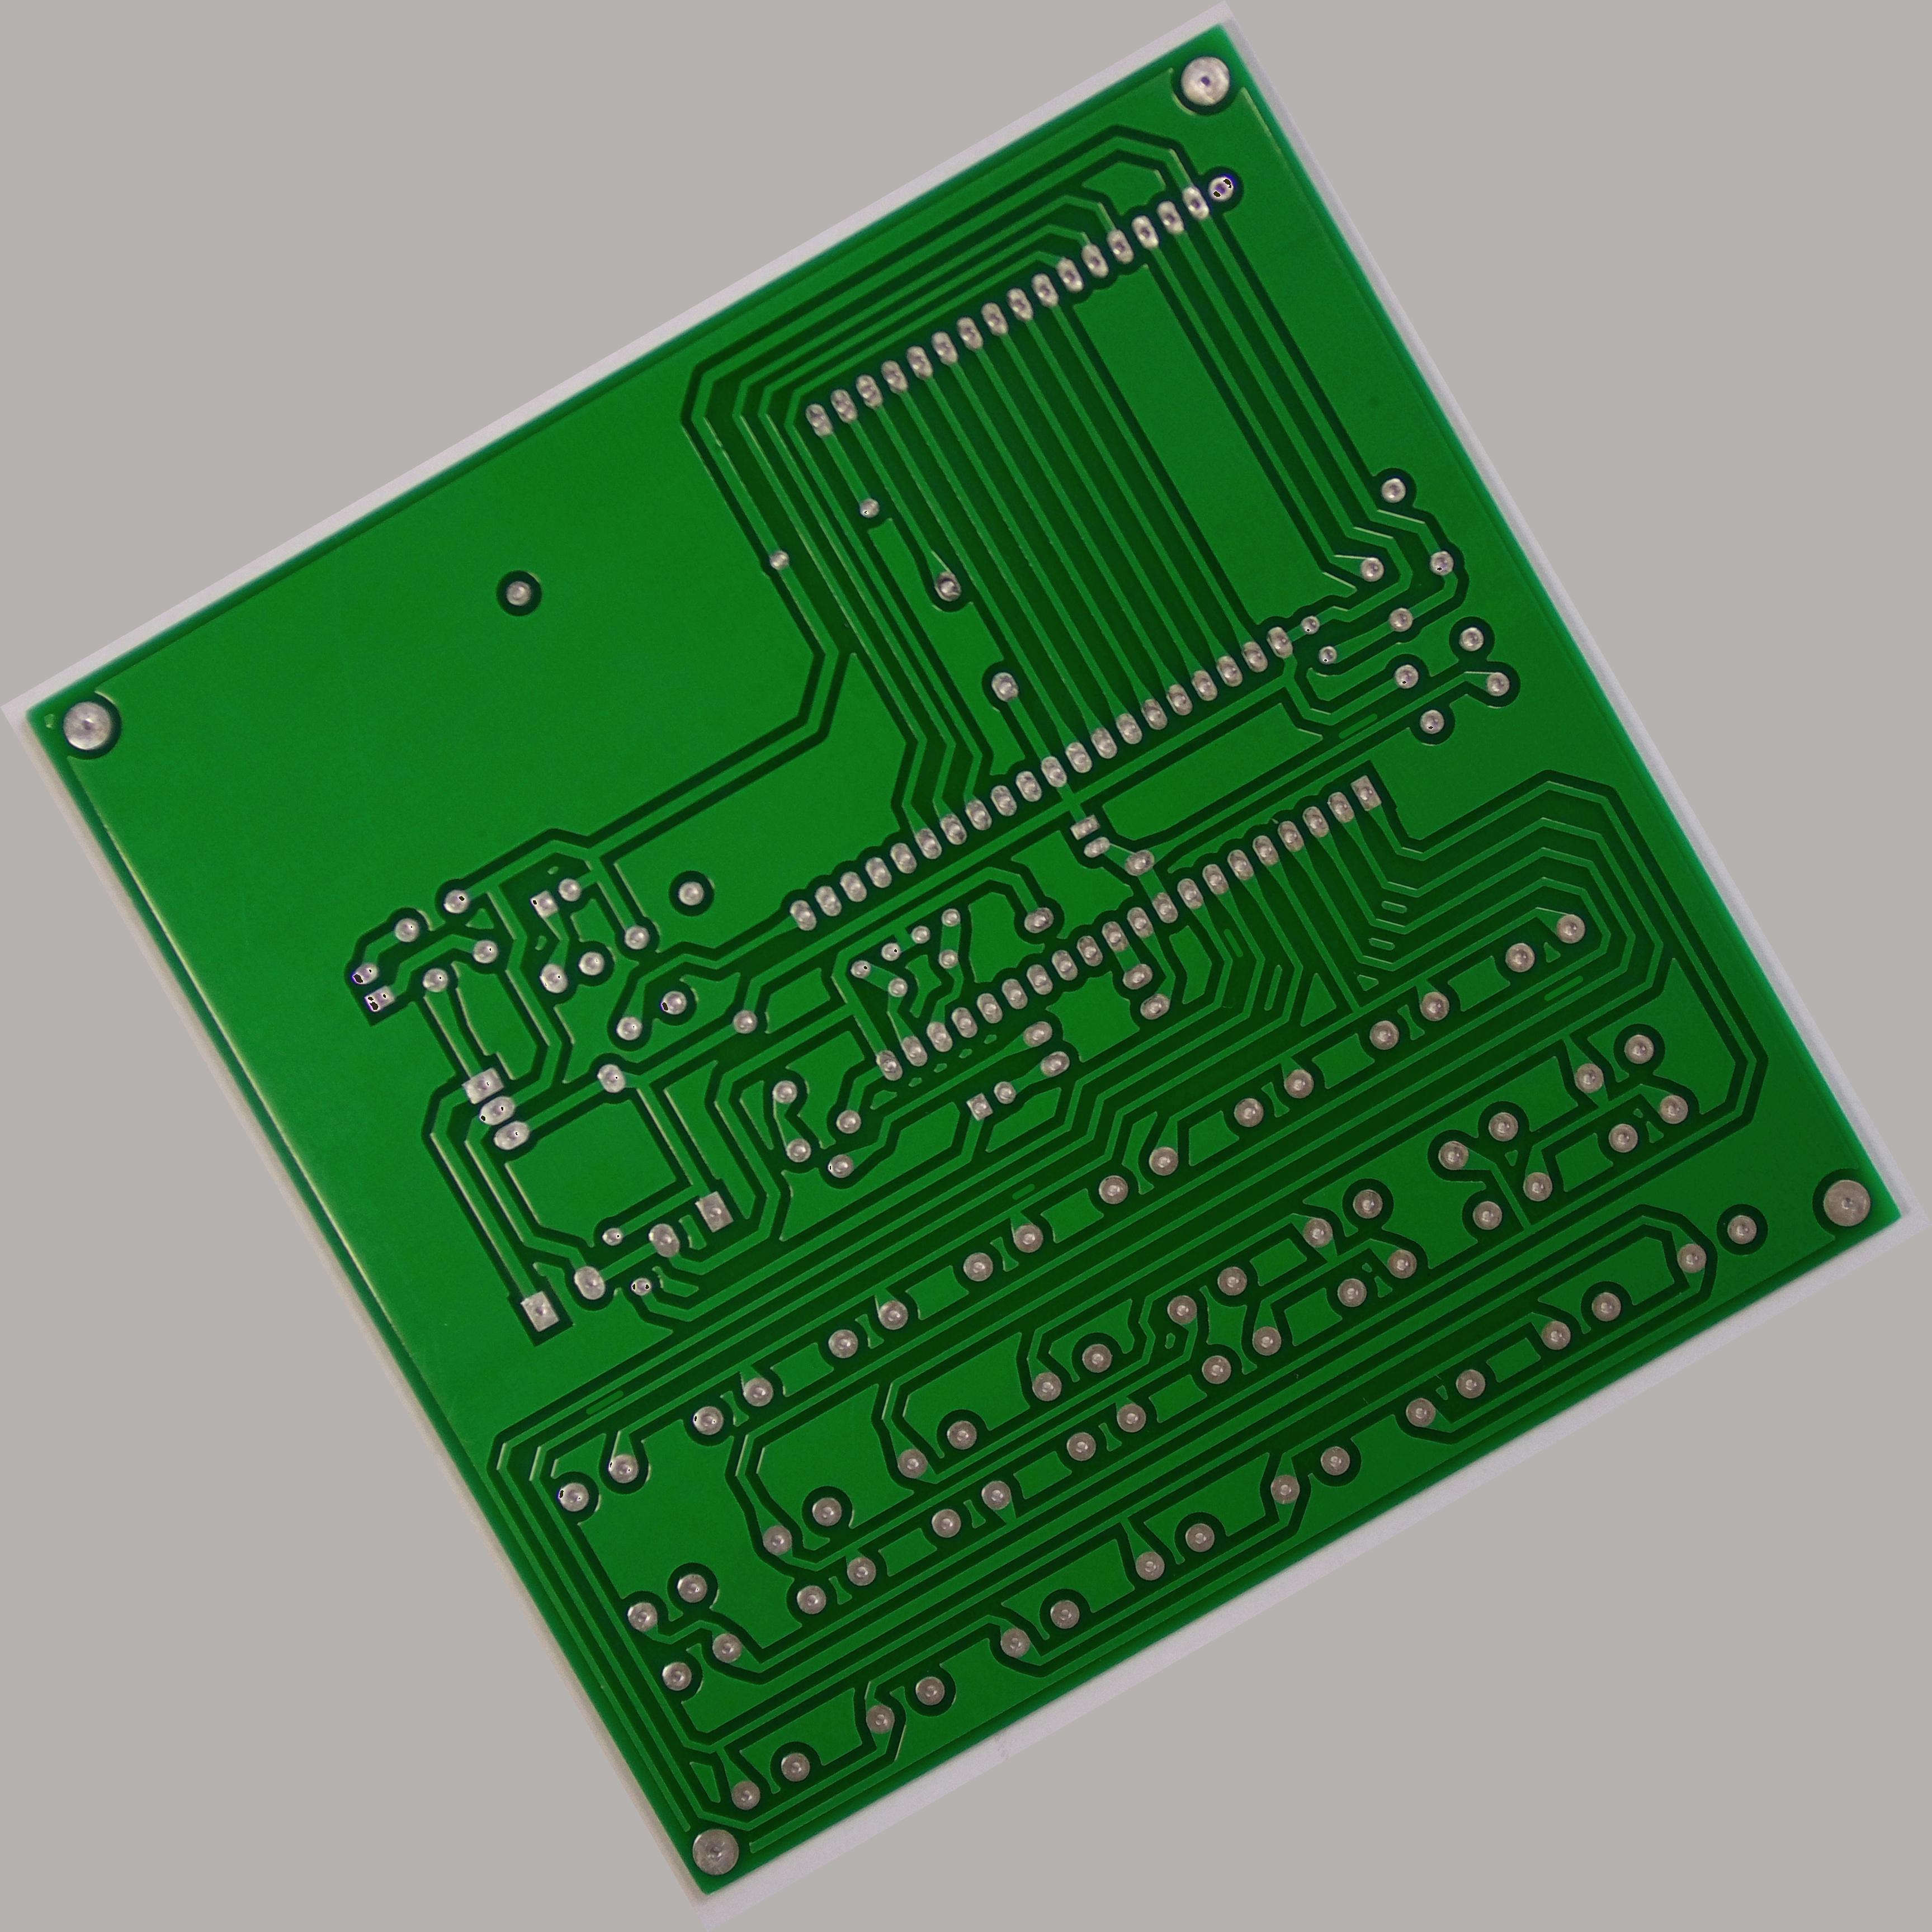spurious_copper: (1525, 959, 1601, 1019), (570, 1378, 633, 1431), (1325, 697, 1389, 750), (1212, 915, 1256, 966), (998, 1171, 1044, 1212)
